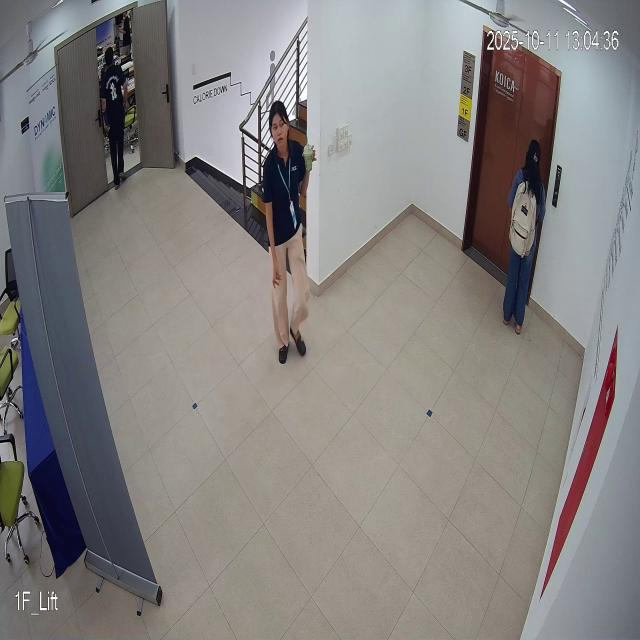face: (267, 98, 293, 160)
